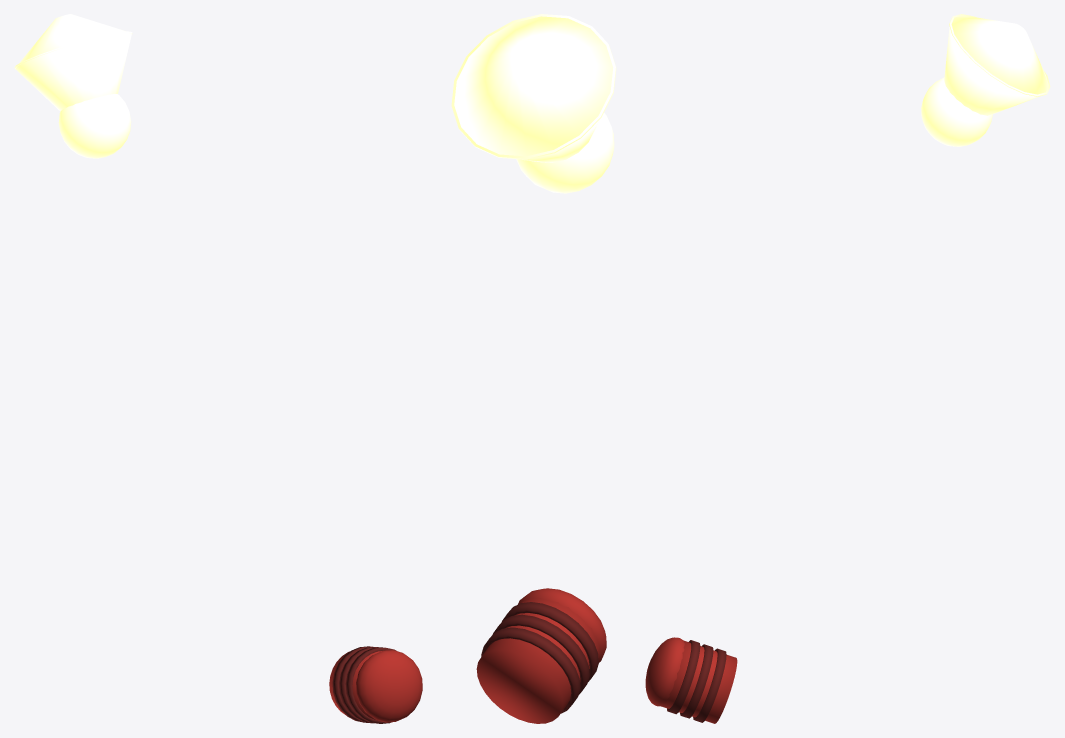
File: fire.glb
3 views of the same model, side by side, from view 1: azimuth 30°, elevation 25°; view 2: azimuth 150°, elevation 25°; view 3: azimuth 270°, elevation 25° (orthographic). The views are drawn at different scales.
Visible parts, largest first — view 1: pkt_flash_cone, pkt_fire_cap, pkt_flash_core, pkt_flash_tip, pkt_fire_ridge_2; view 2: pkt_flash_tip, pkt_fire_stem, pkt_flash_core, pkt_flash_cone, pkt_fire_ridge_0, pkt_fire_ridge_1, pkt_fire_ridge_2, pkt_fire_cap; view 3: pkt_flash_tip, pkt_flash_cone, pkt_flash_core, pkt_fire_stem, pkt_fire_cap, pkt_fire_ridge_0, pkt_fire_ridge_1, pkt_fire_ridge_2.
Boxes of the visible parts, box(x1,y1,x2,y2) form: pkt_flash_cone: box(14, 31, 132, 111); pkt_fire_cap: box(356, 650, 422, 722); pkt_flash_core: box(58, 94, 131, 158); pkt_flash_tip: box(15, 14, 132, 68); pkt_fire_ridge_2: box(345, 647, 396, 723); pkt_flash_tip: box(454, 16, 616, 159); pkt_fire_stem: box(476, 598, 600, 723); pkt_flash_core: box(516, 113, 614, 193); pkt_flash_cone: box(451, 14, 615, 162); pkt_fire_ridge_0: box(481, 627, 580, 713); pkt_fire_ridge_1: box(492, 614, 589, 694); pkt_fire_ridge_2: box(502, 602, 598, 681); pkt_fire_cap: box(518, 588, 606, 662); pkt_flash_tip: box(949, 15, 1048, 96); pkt_flash_cone: box(944, 14, 1050, 115); pkt_flash_core: box(921, 77, 992, 146); pkt_fire_stem: box(661, 640, 737, 723); pkt_fire_cap: box(645, 637, 684, 706); pkt_fire_ridge_0: box(693, 648, 726, 722); pkt_fire_ridge_1: box(680, 644, 713, 718); pkt_fire_ridge_2: box(667, 640, 700, 714).
Size of the model in its own units: 0.2214 by 0.5697 by 0.3343.
